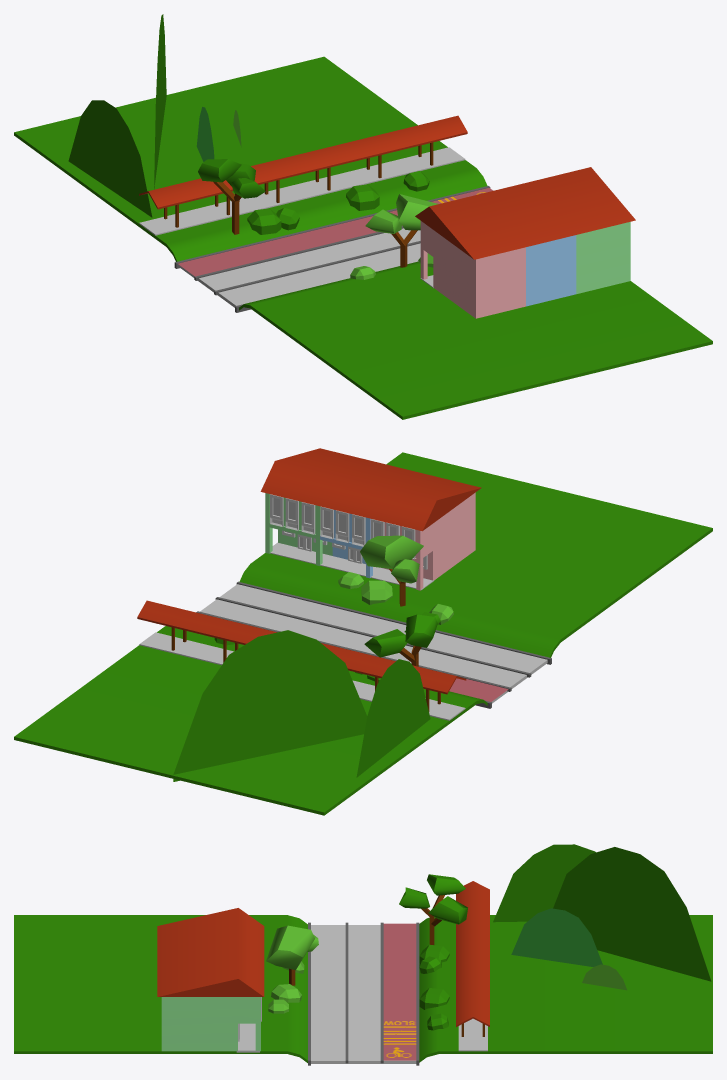
The model's file is Level 3 Chunk 4.fbx.
3 renders of one model, top to bottom at view 1: azimuth 30°, elevation 25°; view 2: azimuth 150°, elevation 25°; view 3: azimuth 270°, elevation 25°, orthographic. The views are drawn at different scales.
Parts seen in each view (by area): view 1: pCube7978, pCube7975, Triple_shop_houses21, pCube7977, pCube7980, pasted__pCube5673, pCube7963, pCube7952, pCube7944, pCube7943, pasted__pasted__pCube5555, pCube7972 (+5 smaller); view 2: pCube7978, pCube7975, Triple_shop_houses21, pasted__pasted__pCube5555, pCube7977, pasted__pCube5673, pCube7980, pCube7943, pCube7963, pCube7944, pCube7974, pCube7976 (+3 smaller); view 3: pCube7975, pCube7978, Triple_shop_houses21, pasted__pasted__pCube5555, pCube7977, pCube7952, pCube7980, pasted__pCube5673, pasted__pasted__pCube5554, pCube7944, pCube7943, pCube7963 (+8 smaller).
Boxes of the visible parts, box(x1,y1,x2,y2) form: pCube7978: box(239, 261, 712, 419); pCube7975: box(14, 56, 487, 261); Triple_shop_houses21: box(415, 167, 635, 318); pCube7977: box(179, 228, 420, 307); pCube7980: box(139, 115, 467, 209); pasted__pCube5673: box(68, 100, 152, 217); pCube7963: box(139, 147, 465, 235); pCube7952: box(178, 187, 493, 276); pCube7944: box(198, 159, 265, 234); pCube7943: box(365, 194, 438, 267); pasted__pasted__pCube5555: box(154, 14, 166, 189); pCube7972: box(174, 186, 490, 268); pCube7978: box(239, 452, 712, 657); pCube7975: box(14, 626, 487, 815); Triple_shop_houses21: box(260, 448, 481, 590); pasted__pasted__pCube5555: box(173, 630, 367, 781); pCube7977: box(200, 584, 547, 703); pasted__pCube5673: box(356, 659, 430, 777); pCube7980: box(137, 600, 466, 694); pCube7943: box(360, 535, 423, 606); pCube7963: box(139, 632, 465, 720); pCube7944: box(364, 612, 440, 666); pCube7974: box(236, 581, 551, 664); pCube7976: box(215, 597, 531, 677); pCube7975: box(419, 915, 712, 1062); pCube7978: box(14, 915, 307, 1062); Triple_shop_houses21: box(157, 908, 264, 1052); pasted__pasted__pCube5555: box(553, 847, 711, 981); pCube7977: box(311, 925, 416, 1063); pCube7952: box(383, 923, 416, 1060); pCube7980: box(456, 881, 489, 1026); pasted__pCube5673: box(493, 844, 595, 922); pasted__pasted__pCube5554: box(511, 908, 602, 966); pCube7944: box(399, 874, 467, 944); pCube7943: box(266, 925, 318, 985); pCube7963: box(458, 1018, 487, 1051).
Size of the model in its own units: 12.46 by 5.11 by 26.56.
Materials: 1 (1 with a texture image).
